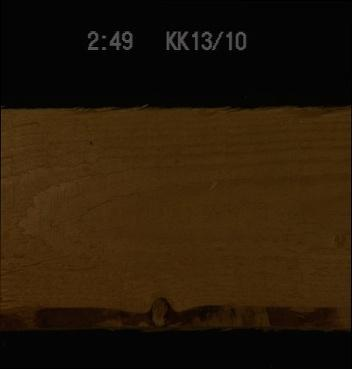split: (0, 247, 78, 276)
wave: (0, 295, 350, 329), (271, 105, 350, 120)
